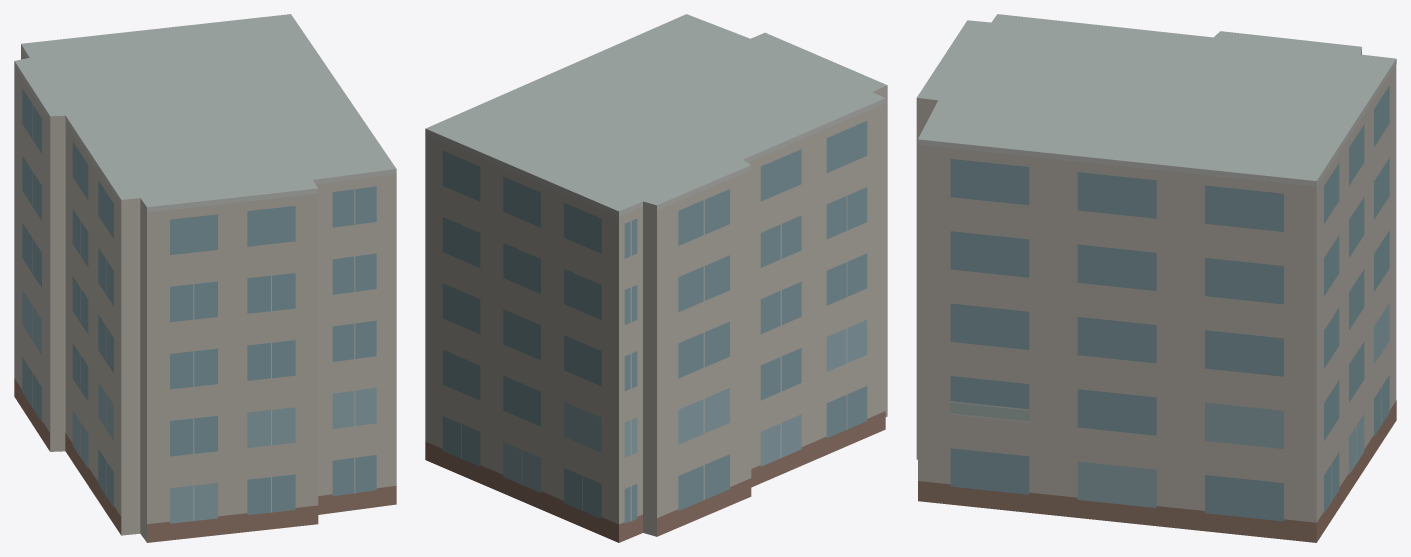
File: survey-upis-32995594.glb
3 views of the same model, side by side, from view 1: azimuth 30°, elevation 25°; view 2: azimuth 150°, elevation 25°; view 3: azimuth 270°, elevation 25° (orthographic). The views are drawn at different scales.
Visible parts, largest first — view 1: survey-upis-32995594.tmp; view 2: survey-upis-32995594.tmp; view 3: survey-upis-32995594.tmp.
Boxes of the visible parts, left/top/right/bottom form: survey-upis-32995594.tmp: left=14, top=14, right=396, bottom=542; survey-upis-32995594.tmp: left=425, top=14, right=887, bottom=542; survey-upis-32995594.tmp: left=916, top=14, right=1396, bottom=542.
Bounding box in the file's own units: 15.73 × 15.87 × 19.09.
